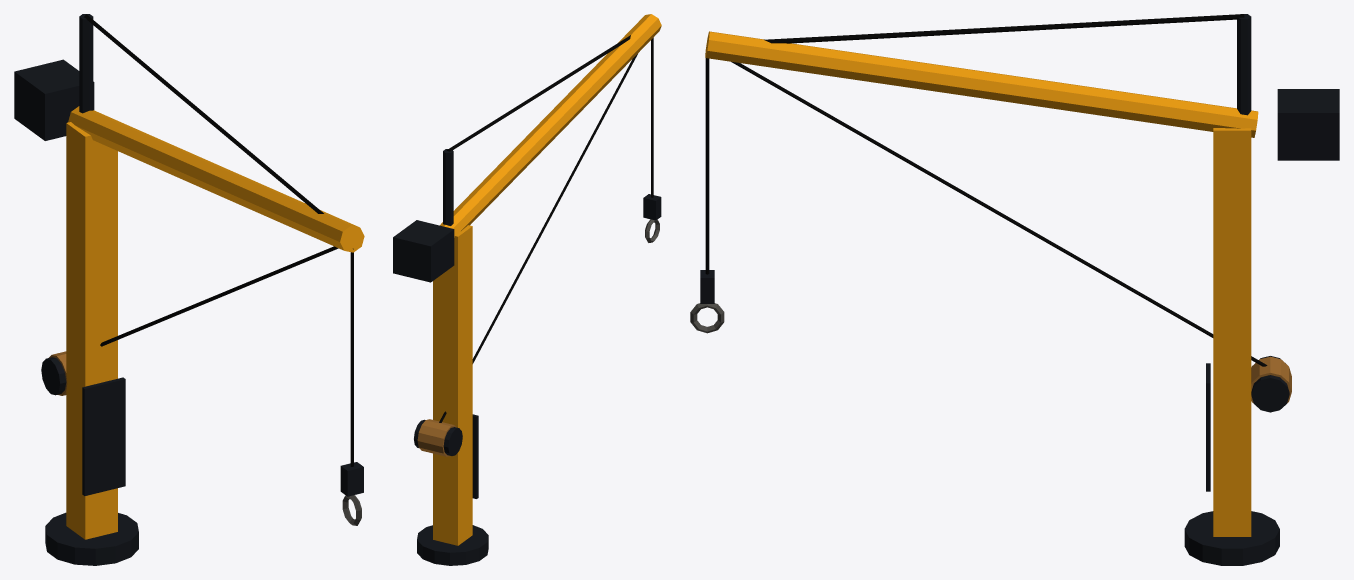
Rendered from tb_upg_salvage_crane.three-web-toon.glb.
3 views of the same model, side by side, from view 1: azimuth 30°, elevation 25°; view 2: azimuth 150°, elevation 25°; view 3: azimuth 270°, elevation 25° (orthographic). The views are drawn at different scales.
Visible parts, largest first — view 1: salvage_crane_mesh; view 2: salvage_crane_mesh; view 3: salvage_crane_mesh.
Part boxes in pixels (x1,y1,x2,y2): salvage_crane_mesh: (14, 14, 364, 565); salvage_crane_mesh: (393, 14, 661, 565); salvage_crane_mesh: (690, 14, 1339, 565).
Size of the model in its own units: 0.39 by 2.46 by 2.72.
